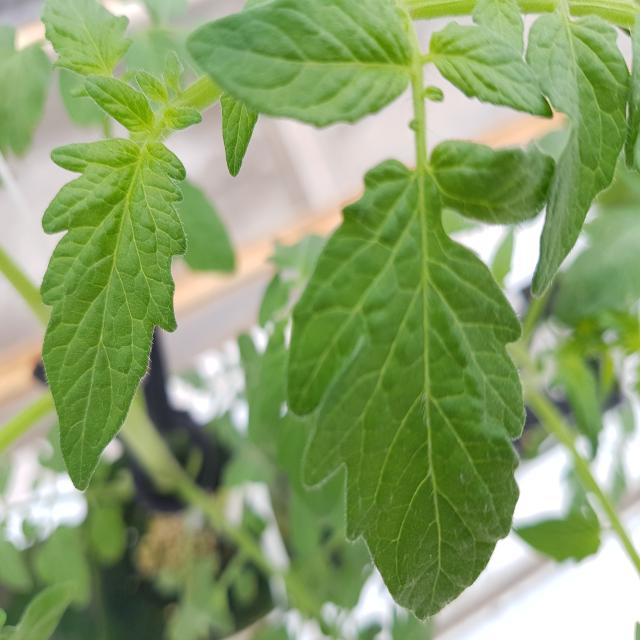Healthy Leaf: (294, 162, 524, 621), (42, 140, 189, 490), (529, 13, 629, 298), (188, 1, 415, 126), (434, 26, 549, 117), (41, 1, 134, 80)
